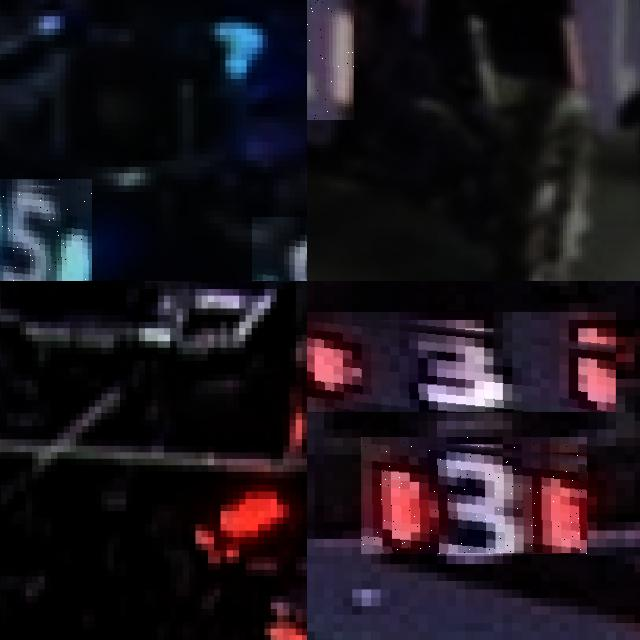B5: (0, 179, 91, 281), (252, 216, 307, 281)
R3: (307, 311, 616, 412), (362, 438, 588, 556)
